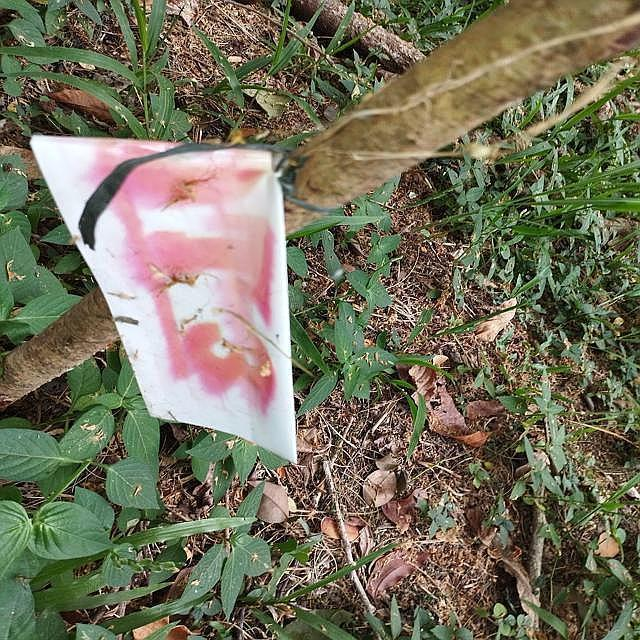Biodegradable: (30, 137, 299, 463)
